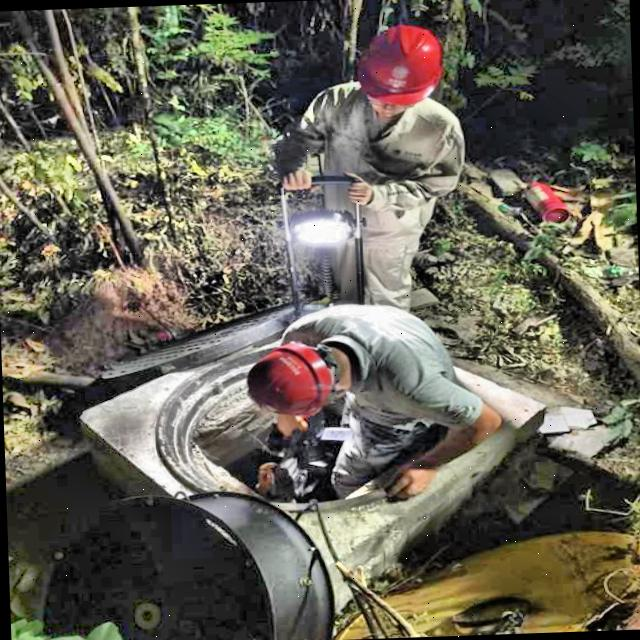helmet: (349, 18, 452, 113), (238, 338, 344, 417)
